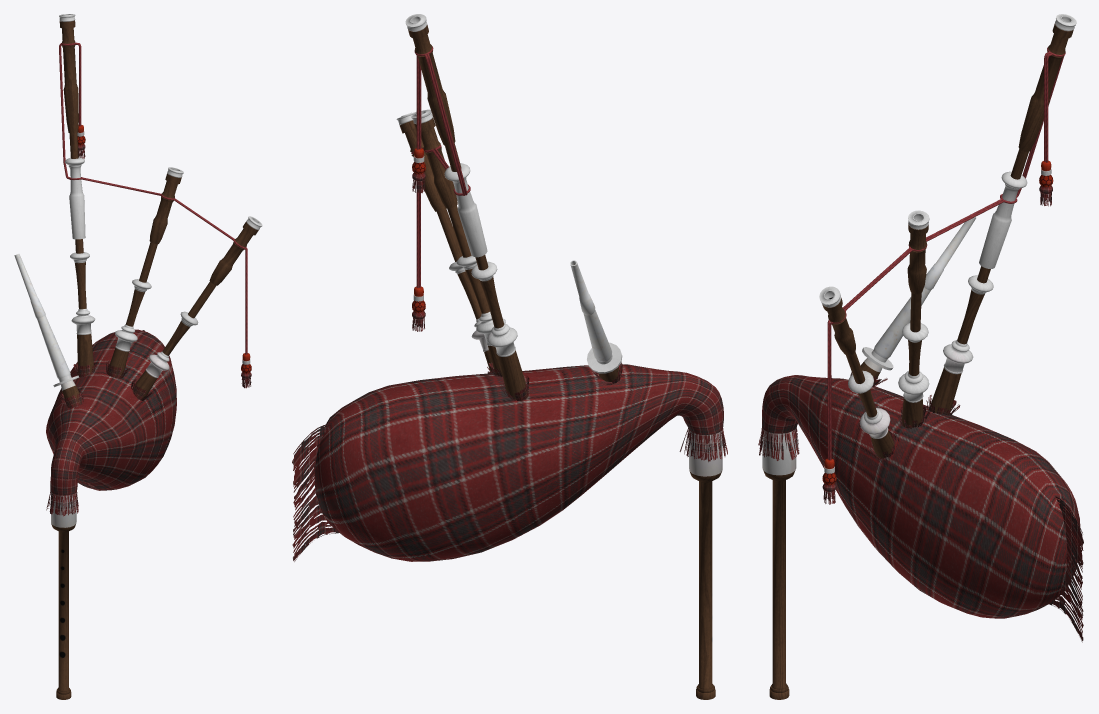
Rendered from instruments.obj.
3 views of the same model, side by side, from view 1: azimuth 30°, elevation 25°; view 2: azimuth 150°, elevation 25°; view 3: azimuth 270°, elevation 25° (orthographic). The views are drawn at different scales.
Visible parts, largest first — view 1: Bagpipes_Bag_0, BagpipesTassles_Bag_0; view 2: Bagpipes_Bag_0, BagpipesTassles_Bag_0; view 3: Bagpipes_Bag_0, BagpipesTassles_Bag_0.
Part boxes in pixels (left/top/right/bottom): Bagpipes_Bag_0: left=14, top=14, right=262, bottom=699; BagpipesTassles_Bag_0: left=46, top=360, right=154, bottom=516; Bagpipes_Bag_0: left=292, top=14, right=723, bottom=699; BagpipesTassles_Bag_0: left=487, top=362, right=727, bottom=462; Bagpipes_Bag_0: left=762, top=14, right=1083, bottom=699; BagpipesTassles_Bag_0: left=758, top=372, right=960, bottom=460.
Bounding box in the file's own units: 0.2213 × 0.5229 × 0.2065.
Materials: 1 (1 with a texture image).
